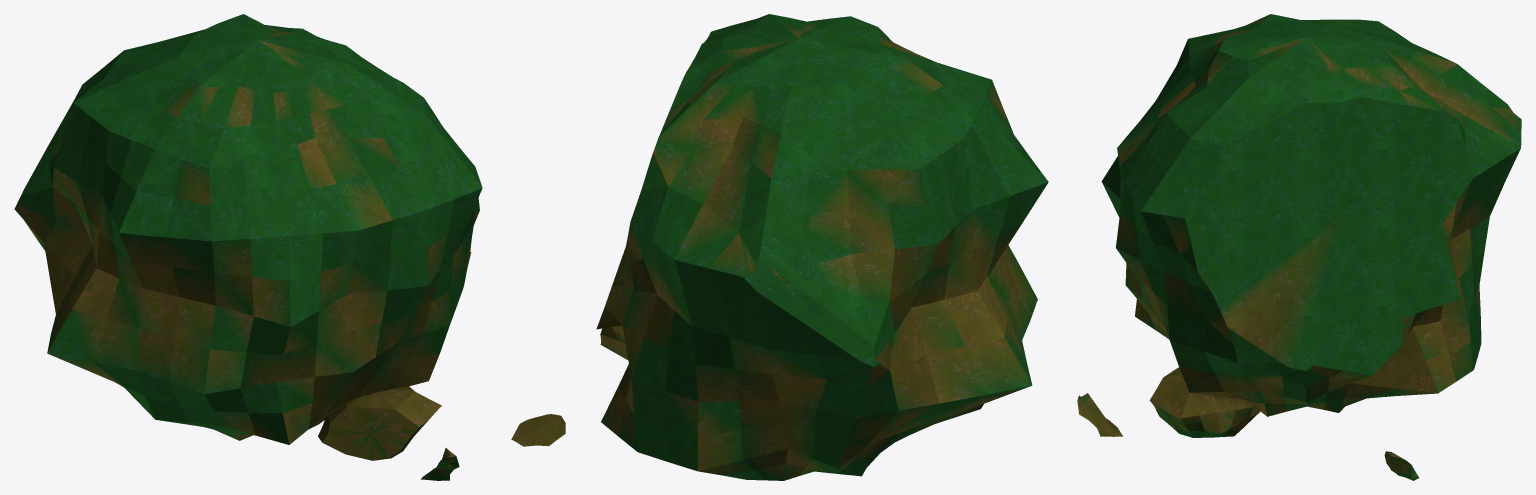
The model's file is cliff_1.glb.
3 renders of one model, left to right at view 1: azimuth 30°, elevation 25°; view 2: azimuth 150°, elevation 25°; view 3: azimuth 270°, elevation 25°, orthographic. The views are drawn at different scales.
Visible parts, largest first — view 1: cliff; view 2: cliff; view 3: cliff.
Part boxes in pixels (<box>): cliff: <box>14,14,482,480</box>; cliff: <box>511,14,1048,480</box>; cliff: <box>1077,14,1521,480</box>.
Size of the model in its own units: 8.4 by 7.52 by 8.25.
Materials: 1 (1 with a texture image).
